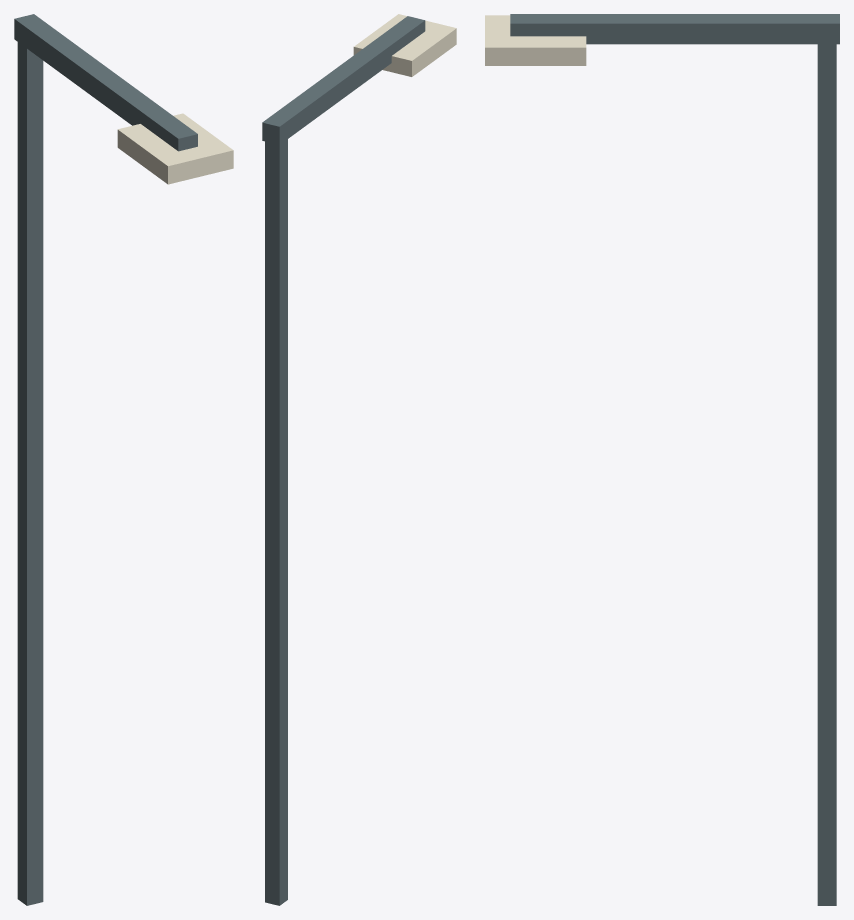
Rendered from street-lamp.glb.
3 renders of one model, left to right at view 1: azimuth 30°, elevation 25°; view 2: azimuth 150°, elevation 25°; view 3: azimuth 270°, elevation 25°, orthographic. The views are drawn at different scales.
Size of the model in its own units: 0.6 by 7.69 by 2.8.
